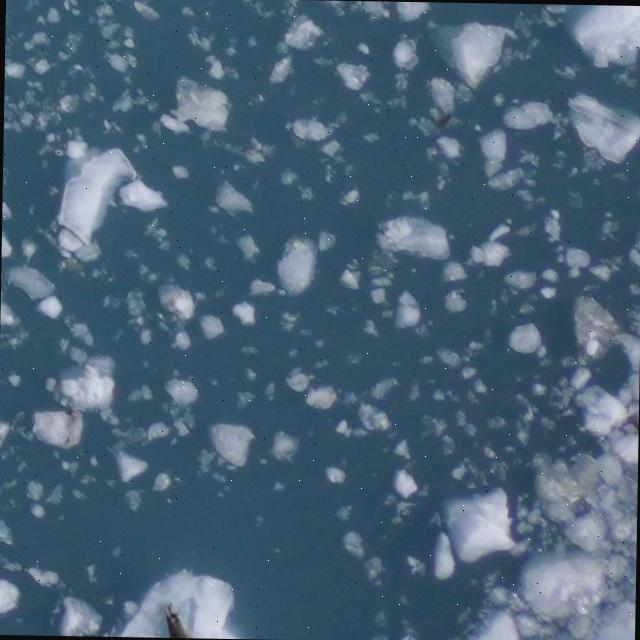seal: (155, 600, 193, 640)
